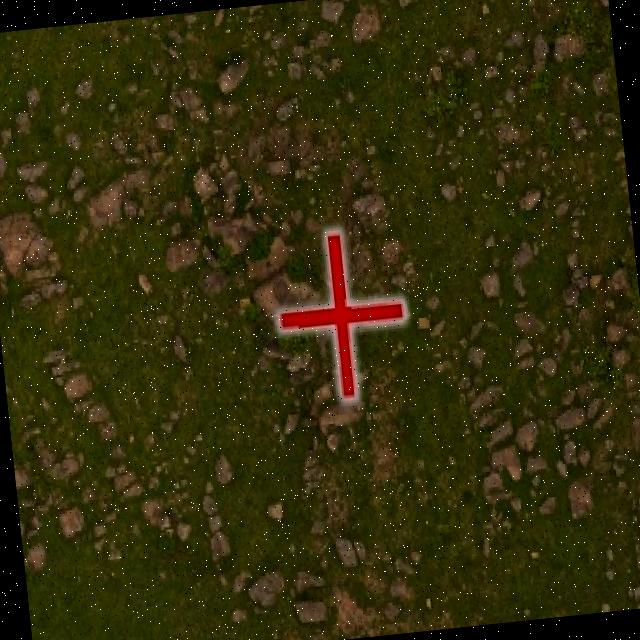x_marker: (270, 225, 411, 403)
